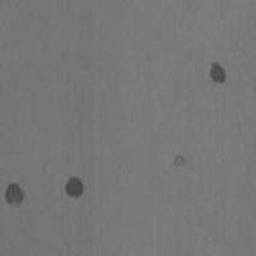Oil spot: (4, 180, 27, 210), (64, 175, 87, 200), (209, 61, 228, 84), (173, 152, 188, 169)
